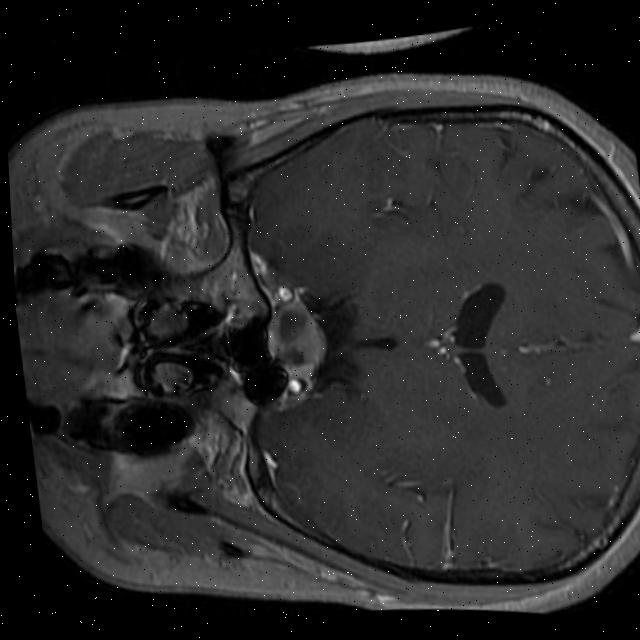Pituitary: (261, 298, 332, 378)
